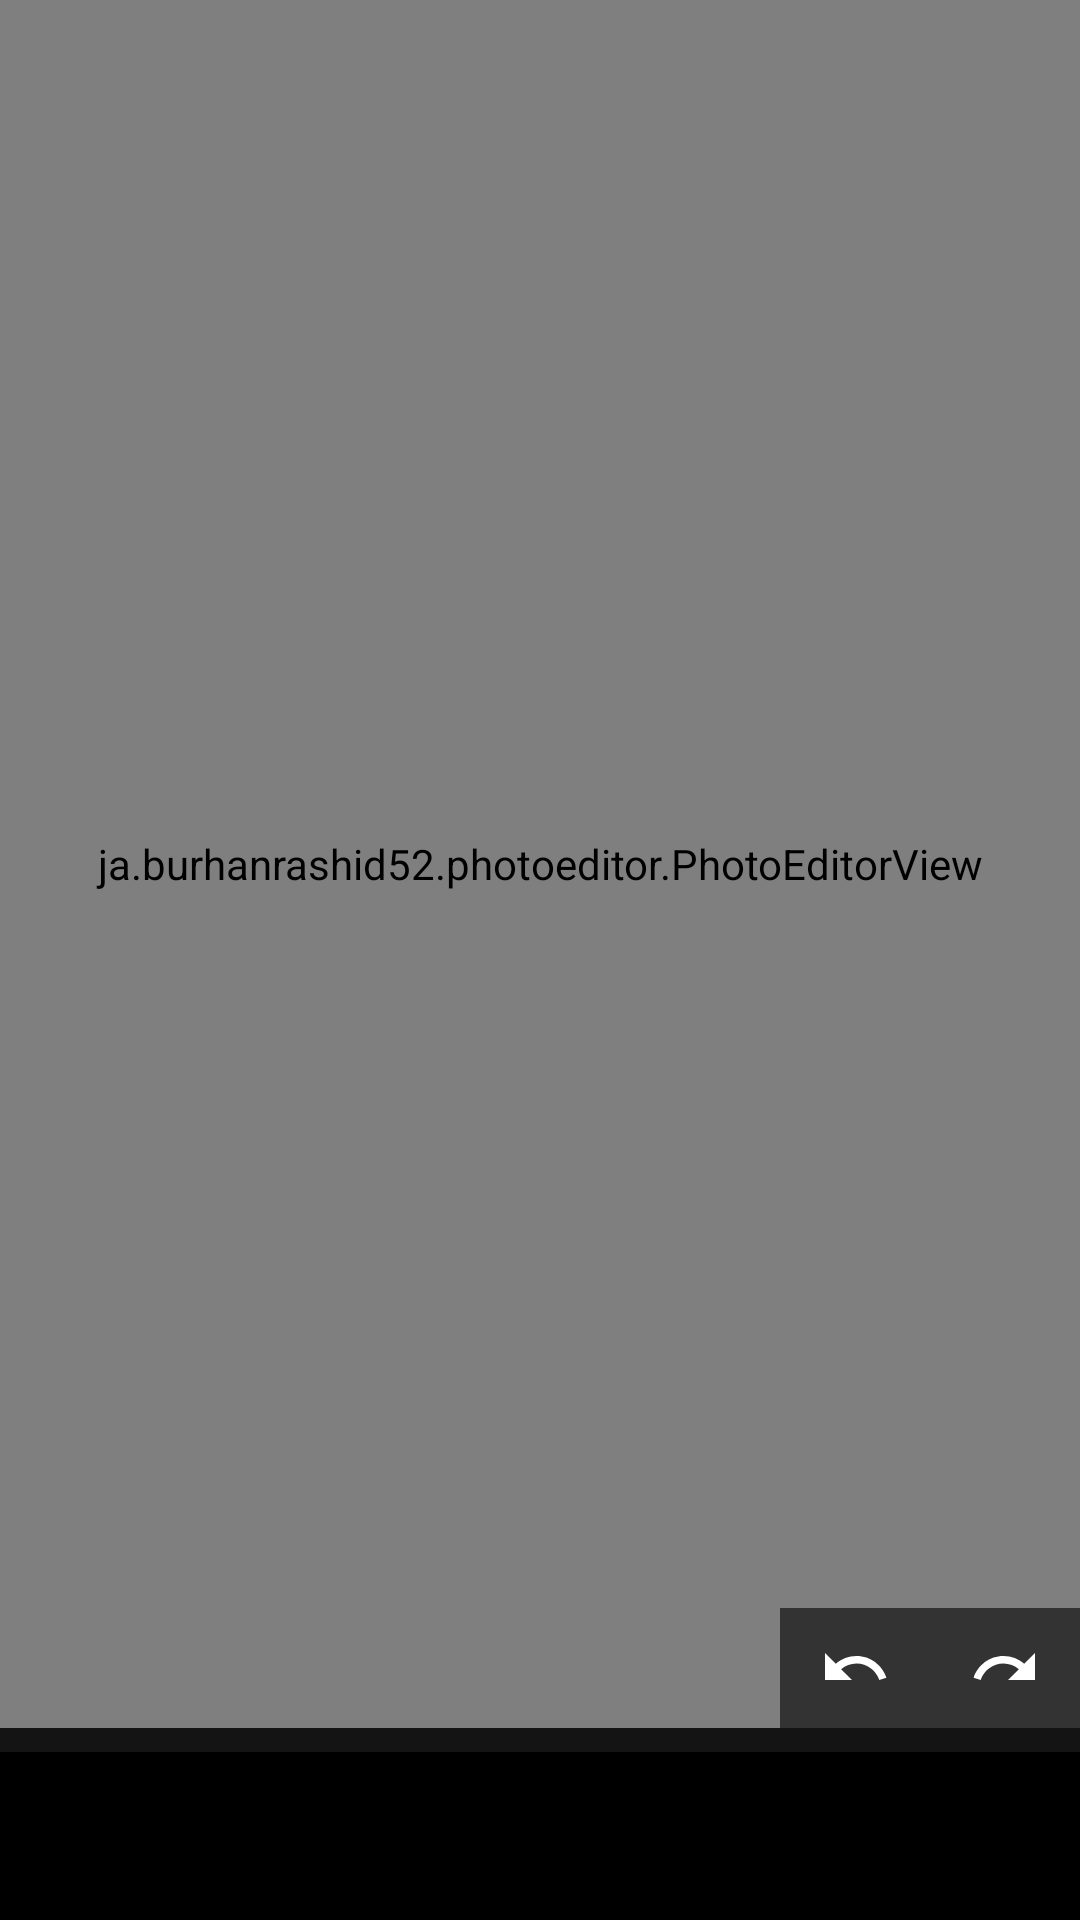

Point at icon controls on the screen. Image size 1080 × 1920, points as [x,y].
Redo: [1004,1666]
Undo: [855,1668]
